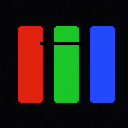3 line_h: (40, 42, 82, 44)
